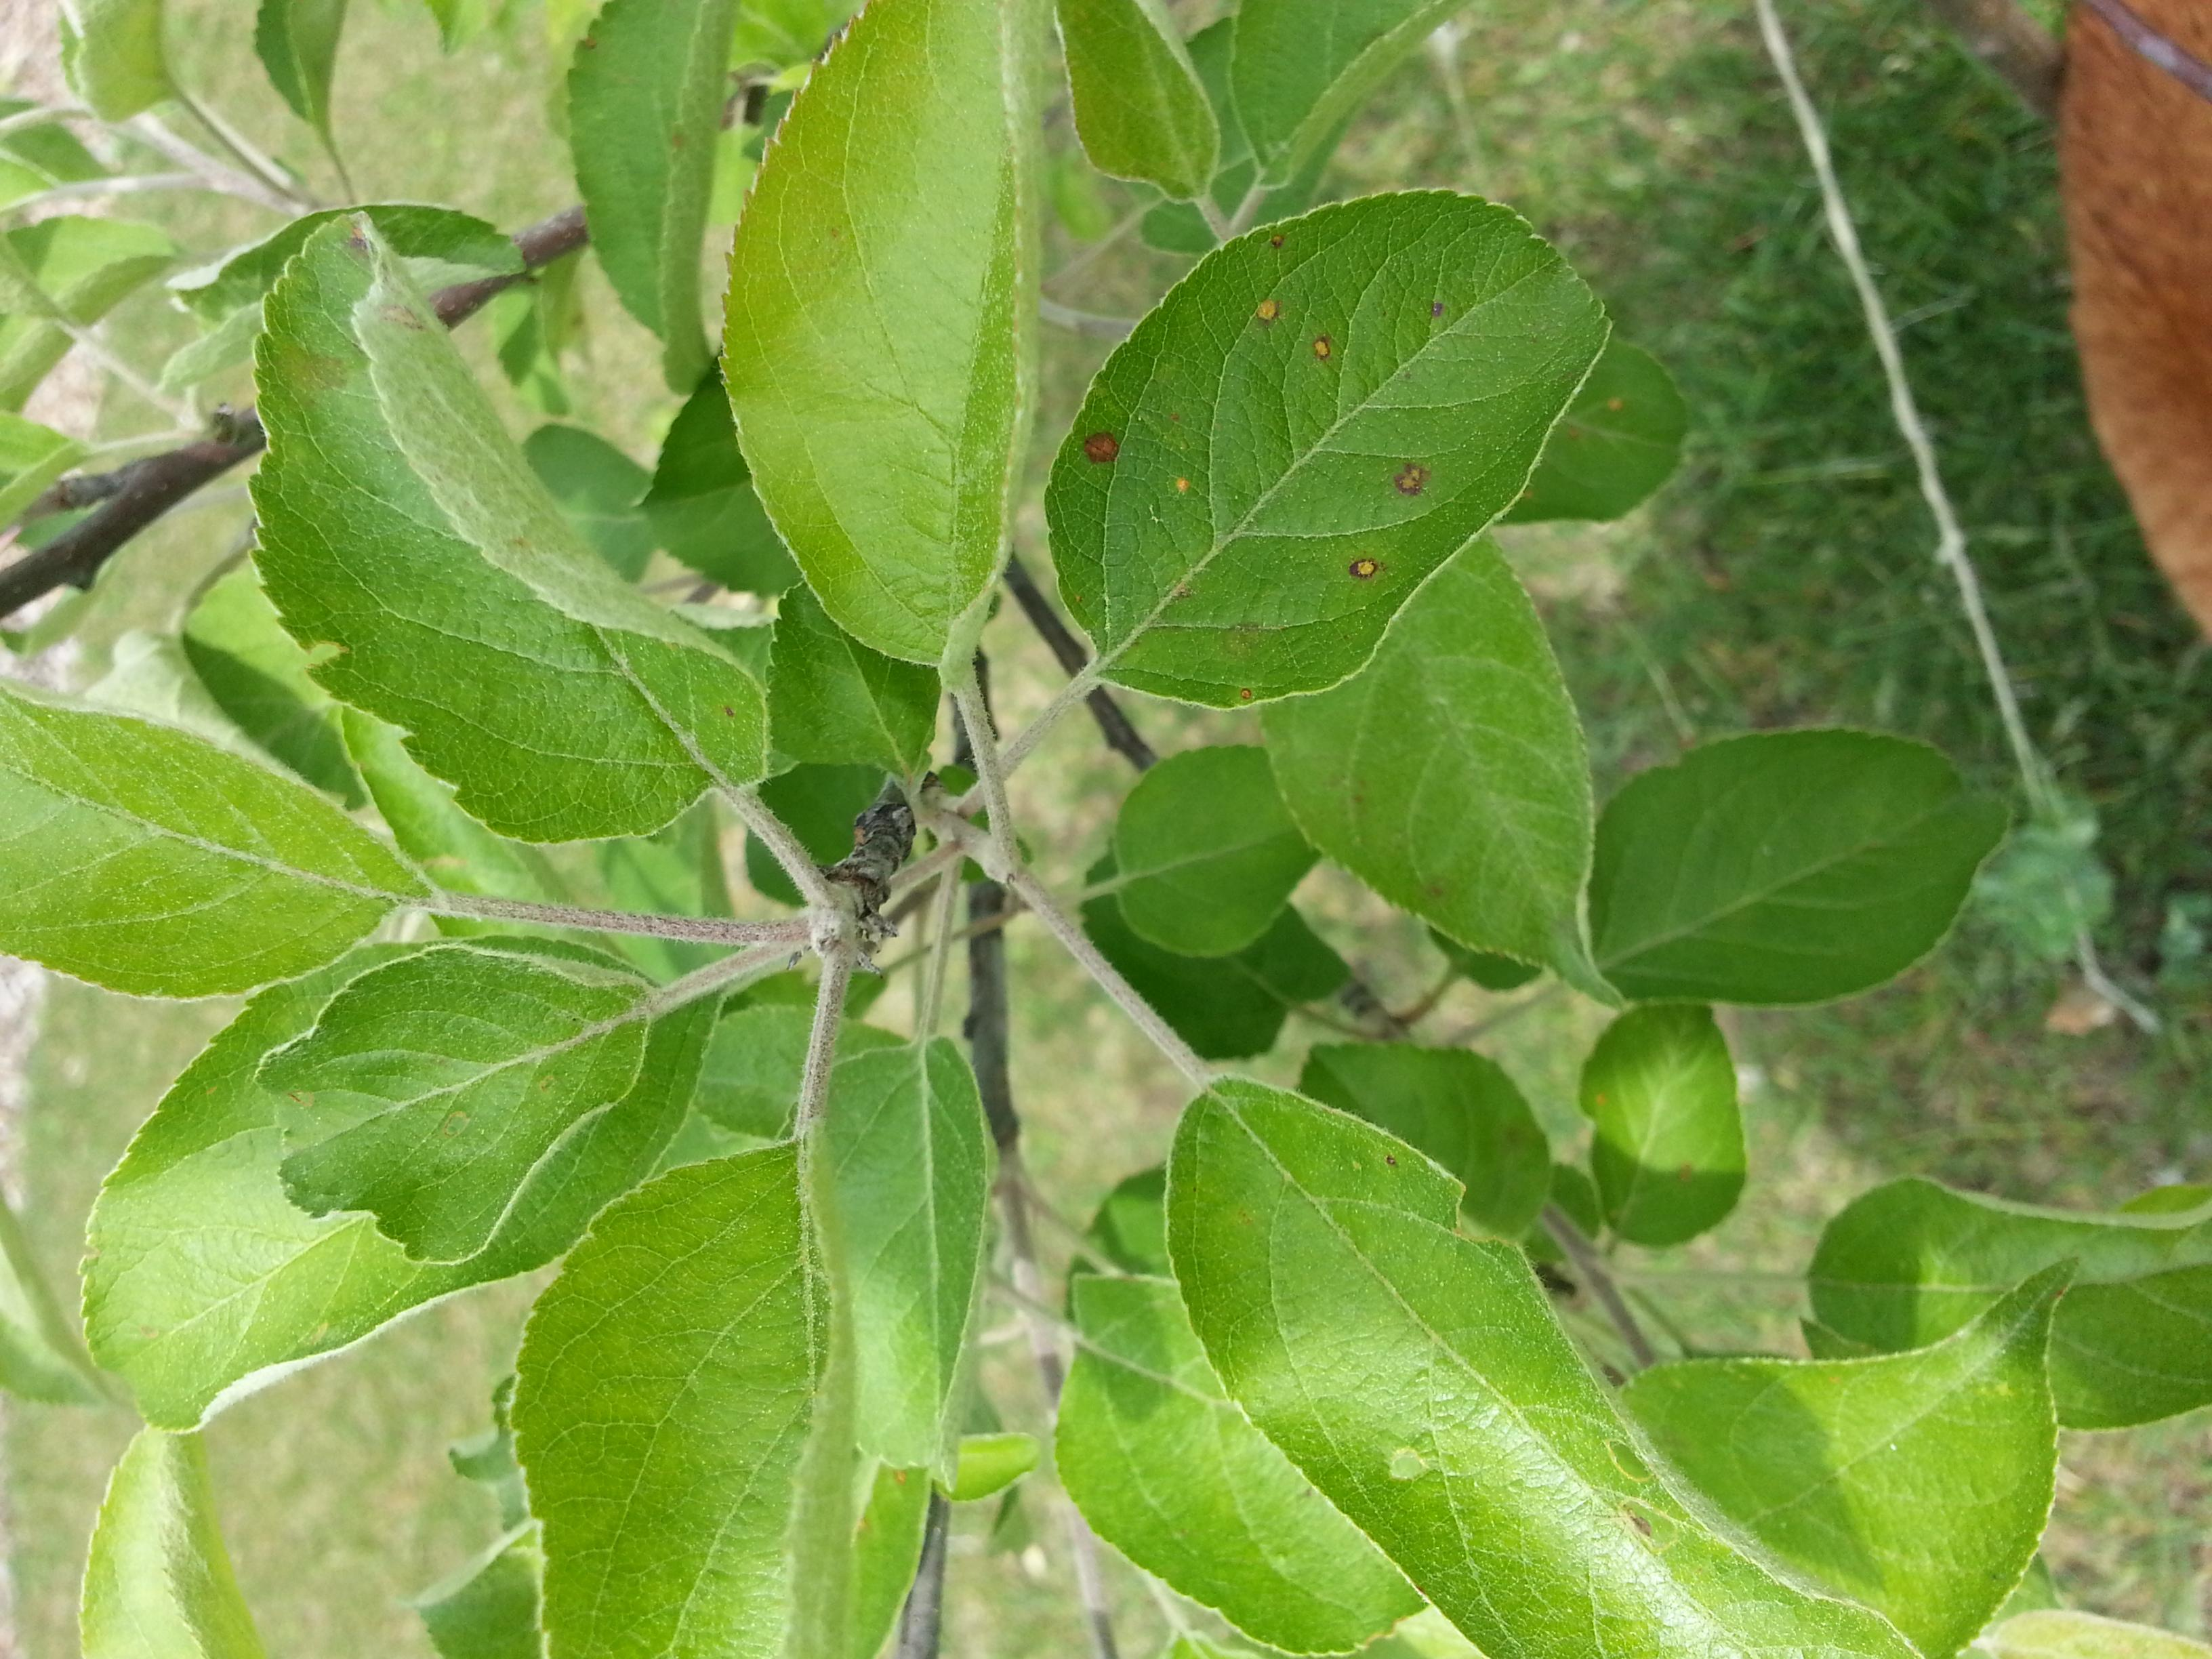Apple rust leaf: (1386, 99, 2155, 542)
